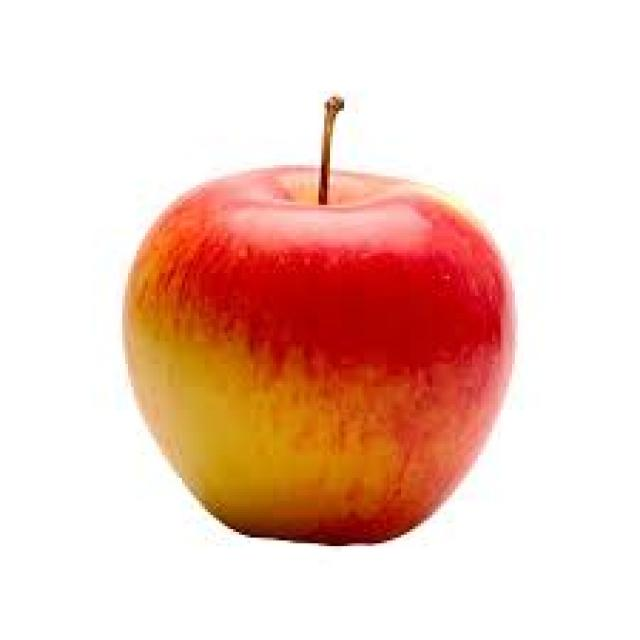apple: (113, 151, 524, 542)
